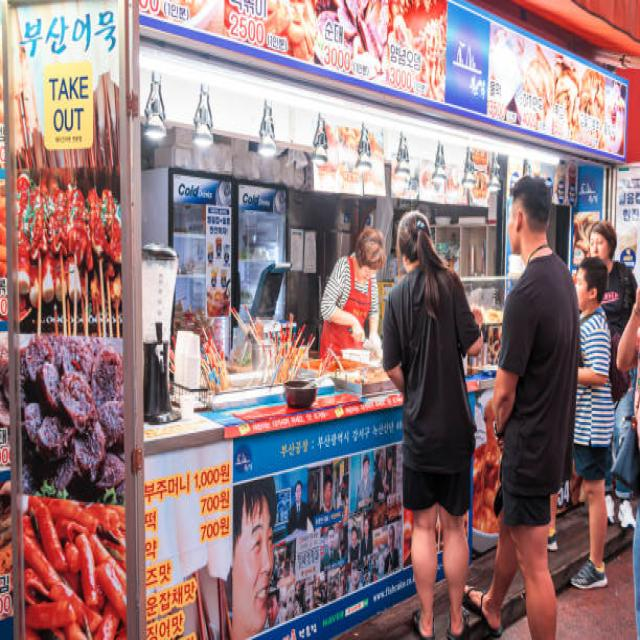Emperan: (0, 7, 639, 640)
